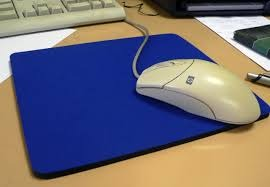keyboard: (0, 0, 130, 41)
mouse: (135, 54, 261, 134)
